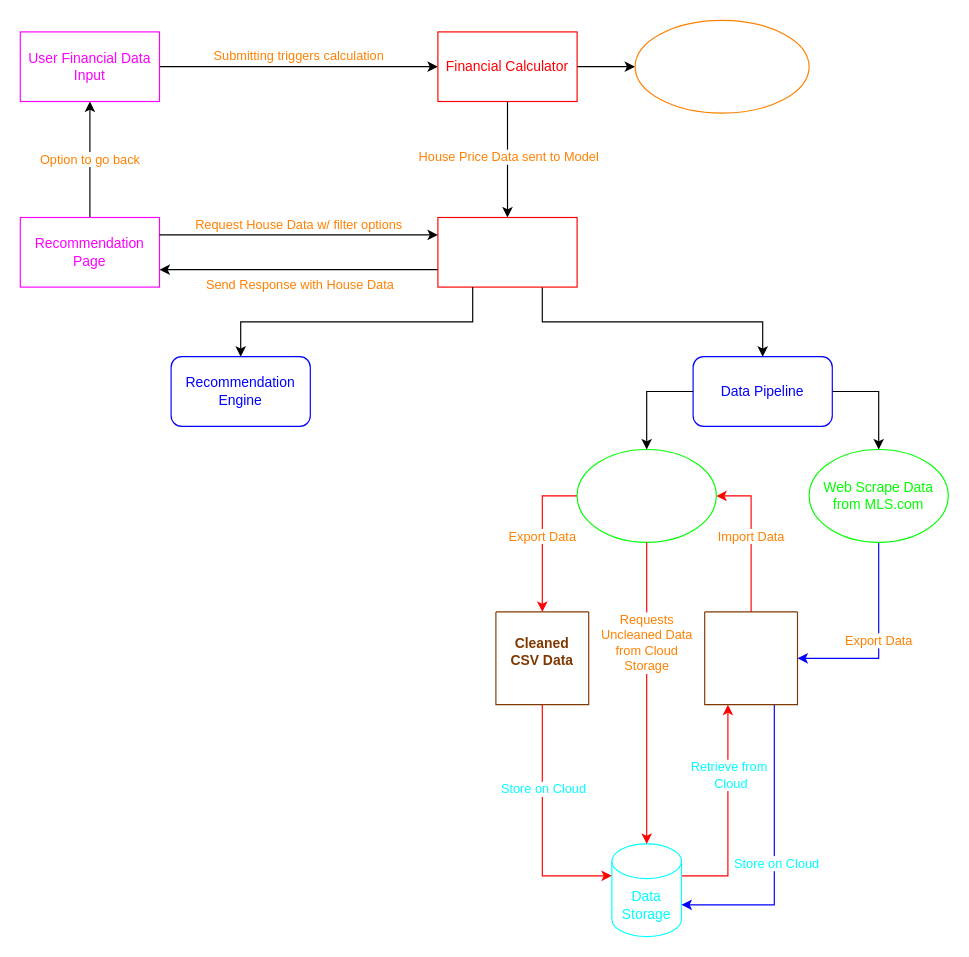
Image size: 969x957. Some labels were removed from this diagram. Each missing label, with the centre of its shape:
Calculates the Price of a House a User can successfully pay: (721,66)
Clean, Preprocess, and Feature Extract Data: (646,495)
House Recommendation Model: (507,251)
Uncleaned CSV Data: (751,658)
